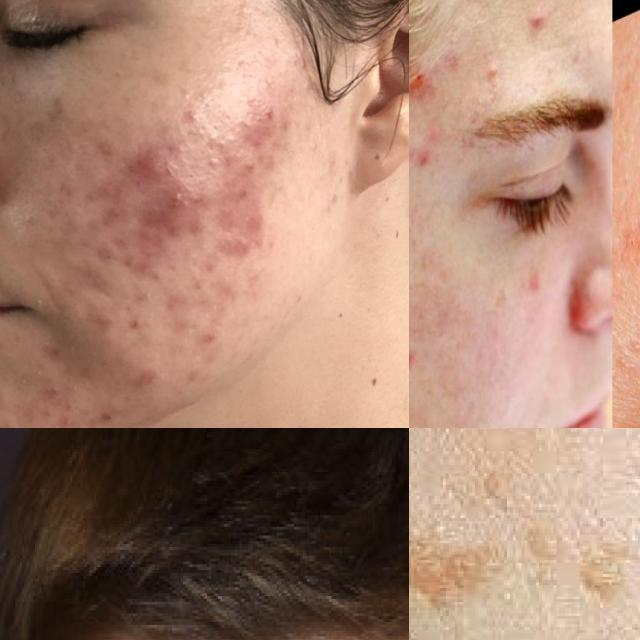comedone: (612, 277, 640, 331)
flat_wart: (409, 465, 633, 626)
papule: (524, 0, 559, 49), (409, 57, 439, 111)
